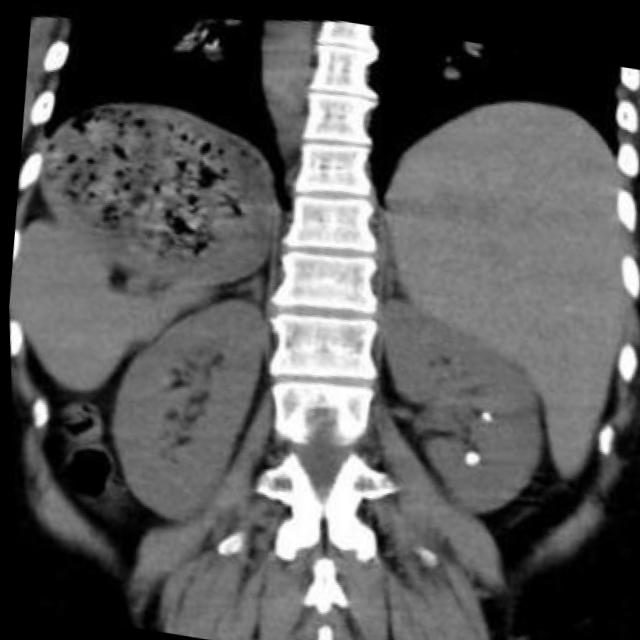Tas_Var: (453, 436, 486, 465), (467, 397, 498, 422)
